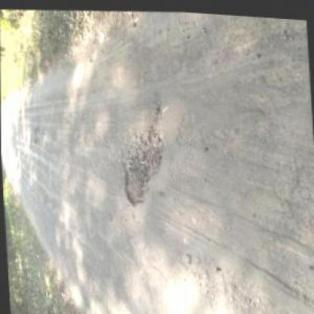Hueco: (118, 121, 167, 208), (31, 126, 39, 144)
